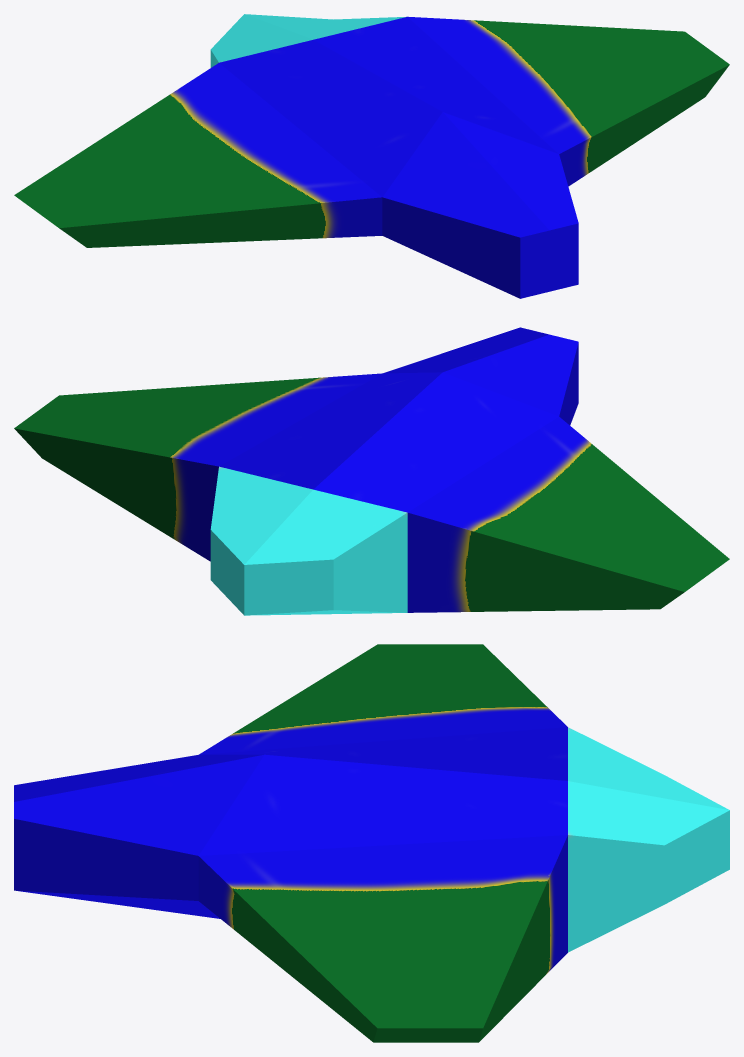
The model's file is basic_spaceship.gltf.
3 views of the same model, one above another, from view 1: azimuth 30°, elevation 25°; view 2: azimuth 150°, elevation 25°; view 3: azimuth 270°, elevation 25° (orthographic). The views are drawn at different scales.
Parts seen in each view (by area): view 1: Cube; view 2: Cube; view 3: Cube.
Part boxes in pixels (x1,y1,x2,y2): Cube: [14, 14, 729, 298]; Cube: [14, 327, 729, 615]; Cube: [14, 644, 729, 1042].
Size of the model in its own units: 0.91 by 0.1883 by 0.7171.
Materials: 1 (1 with a texture image).
